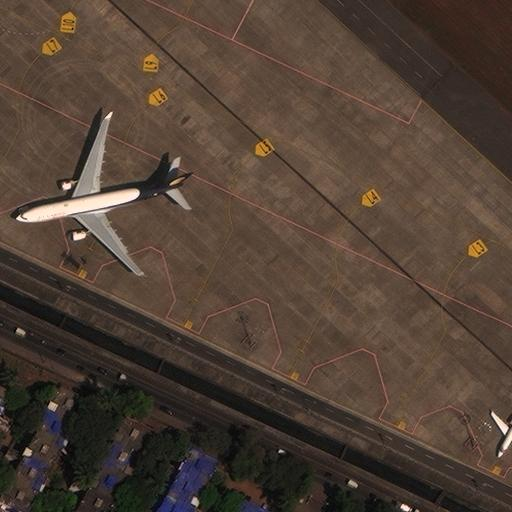Large Civil Transport: (14, 116, 193, 276)
Medium Civil Transport: (490, 408, 511, 457)
